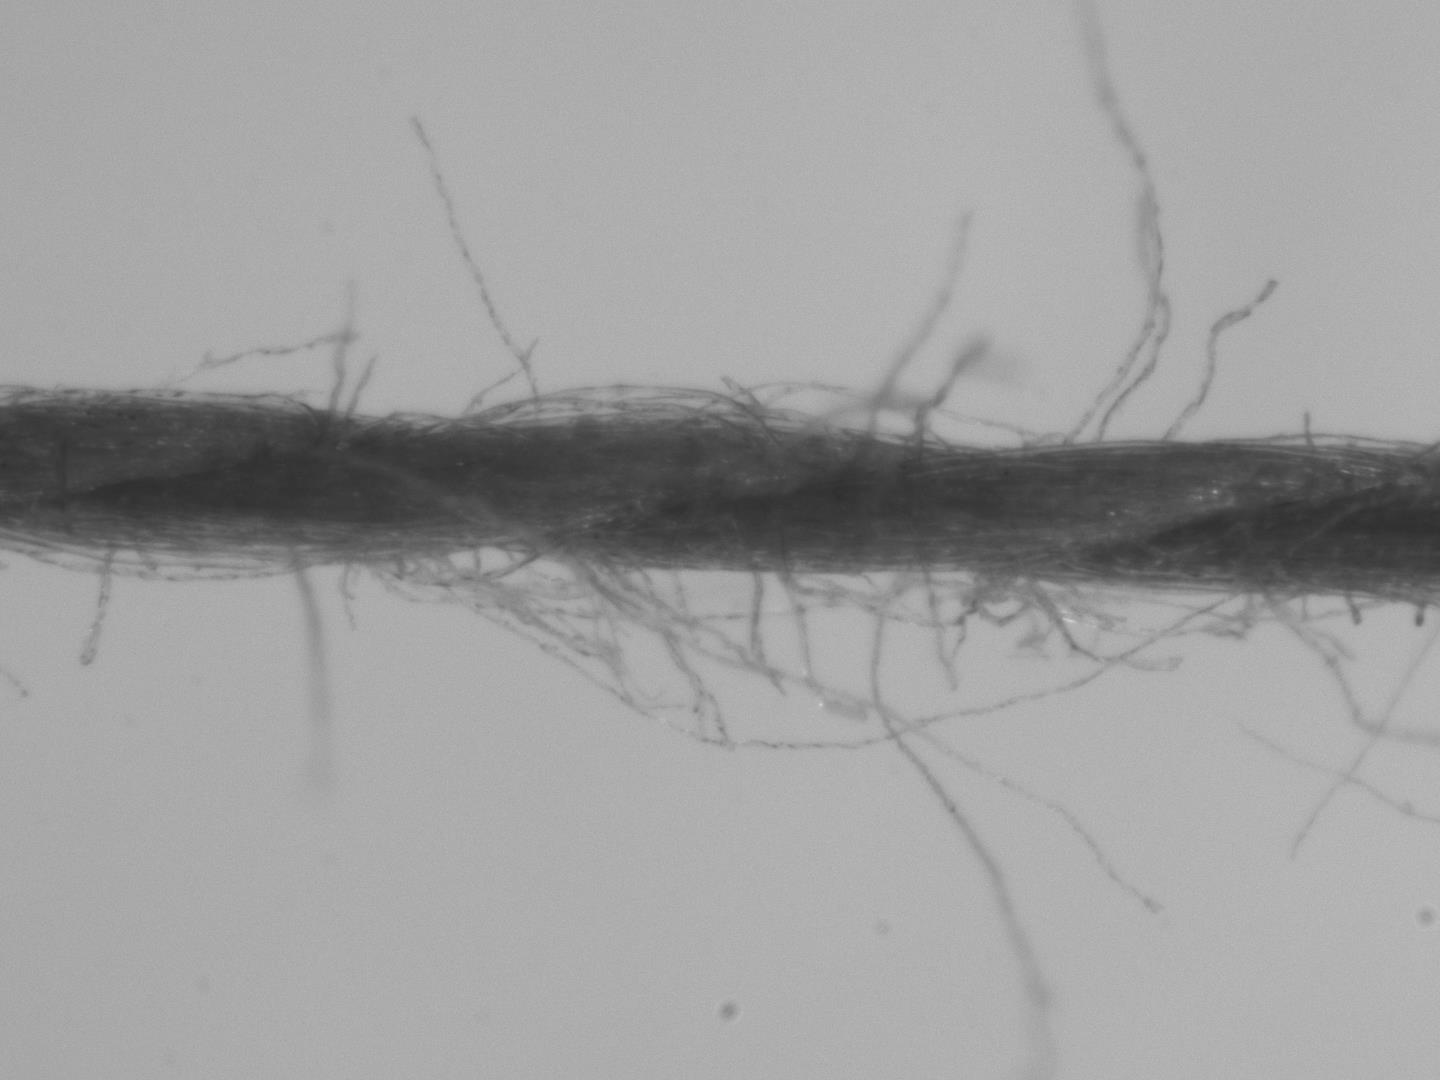loop_fiber: (376, 548, 1246, 765), (1049, 3, 1177, 445)
protruding_fiber: (859, 558, 1074, 1079), (398, 103, 550, 421), (1153, 267, 1288, 450), (988, 572, 1189, 678), (161, 319, 384, 390), (447, 324, 551, 422), (314, 262, 367, 439), (339, 345, 386, 442), (1291, 399, 1328, 454)
